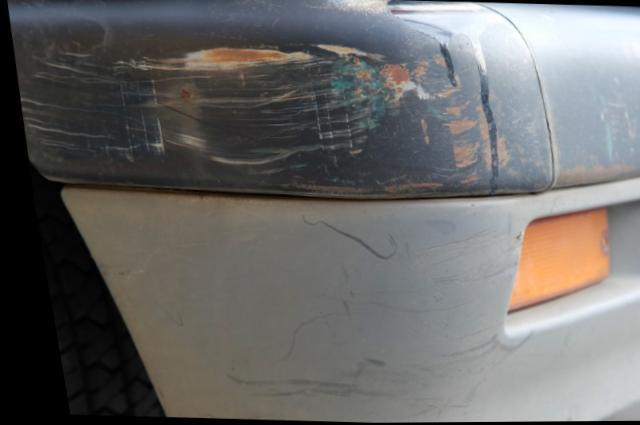scratch: (168, 208, 502, 422), (14, 36, 418, 172)
